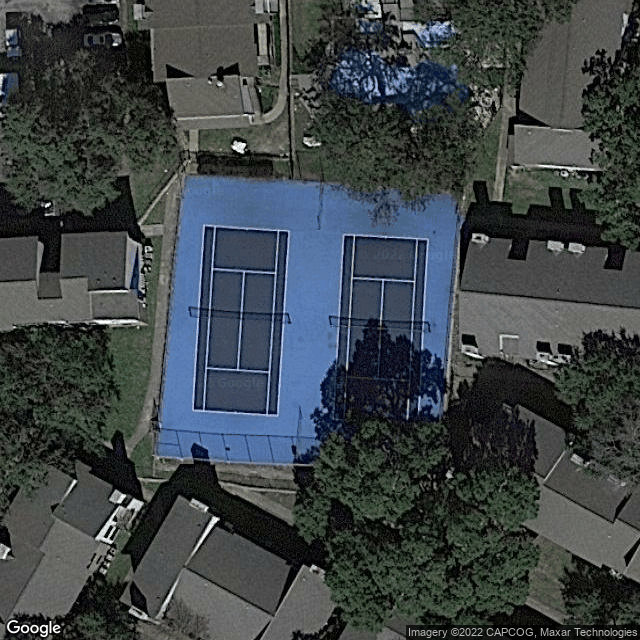Court: (190, 222, 291, 418), (331, 232, 431, 426)
